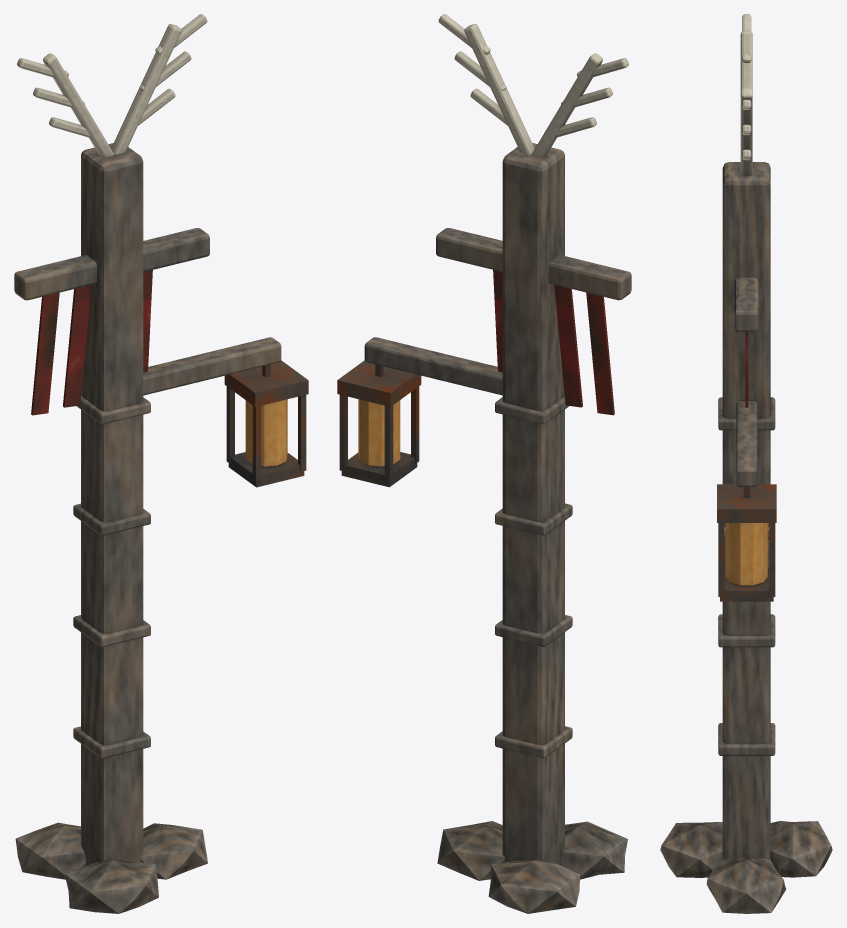
The model's file is snow_trail_post.glb.
The picture shows the model from 3 angles, left to right: view 1: azimuth 30°, elevation 25°; view 2: azimuth 150°, elevation 25°; view 3: azimuth 270°, elevation 25°; orthographic projection. The views are drawn at different scales.
Parts seen in each view (by area): view 1: snow_trail_post; view 2: snow_trail_post; view 3: snow_trail_post.
Boxes of the visible parts, box(x1,y1,x2,y2) form: snow_trail_post: box(14, 14, 308, 913); snow_trail_post: box(337, 14, 631, 913); snow_trail_post: box(660, 14, 832, 913).
Size of the model in its own units: 1.03 by 3.02 by 0.5756.
Materials: 5 (5 with a texture image).
